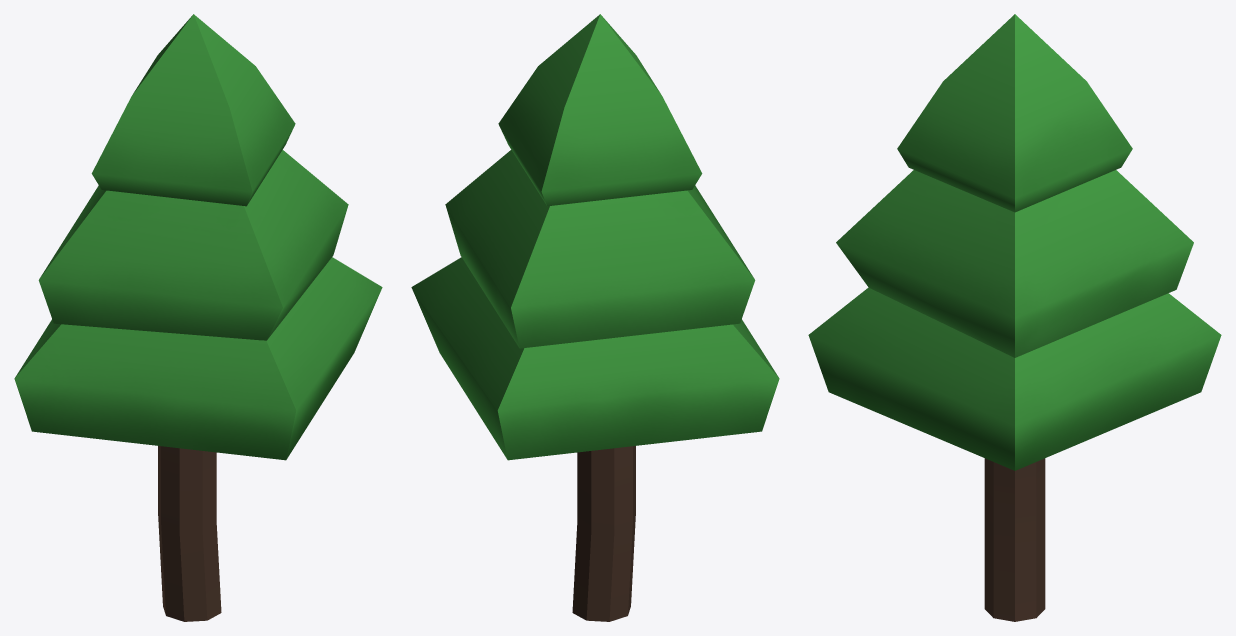
The model's file is tree2.fbx.
3 views of the same model, side by side, from view 1: azimuth 30°, elevation 25°; view 2: azimuth 150°, elevation 25°; view 3: azimuth 270°, elevation 25° (orthographic).
Parts seen in each view (by area): view 1: tree4; view 2: tree4; view 3: tree4.
Boxes of the visible parts, box(x1,y1,x2,y2) form: tree4: box(14, 14, 382, 621); tree4: box(411, 14, 779, 621); tree4: box(808, 14, 1221, 621).
Size of the model in its own units: 2.55 by 3.94 by 2.48.
